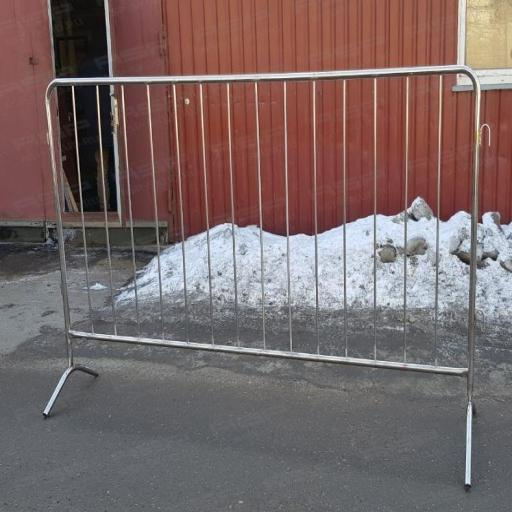bus_stop: (42, 64, 490, 490)
